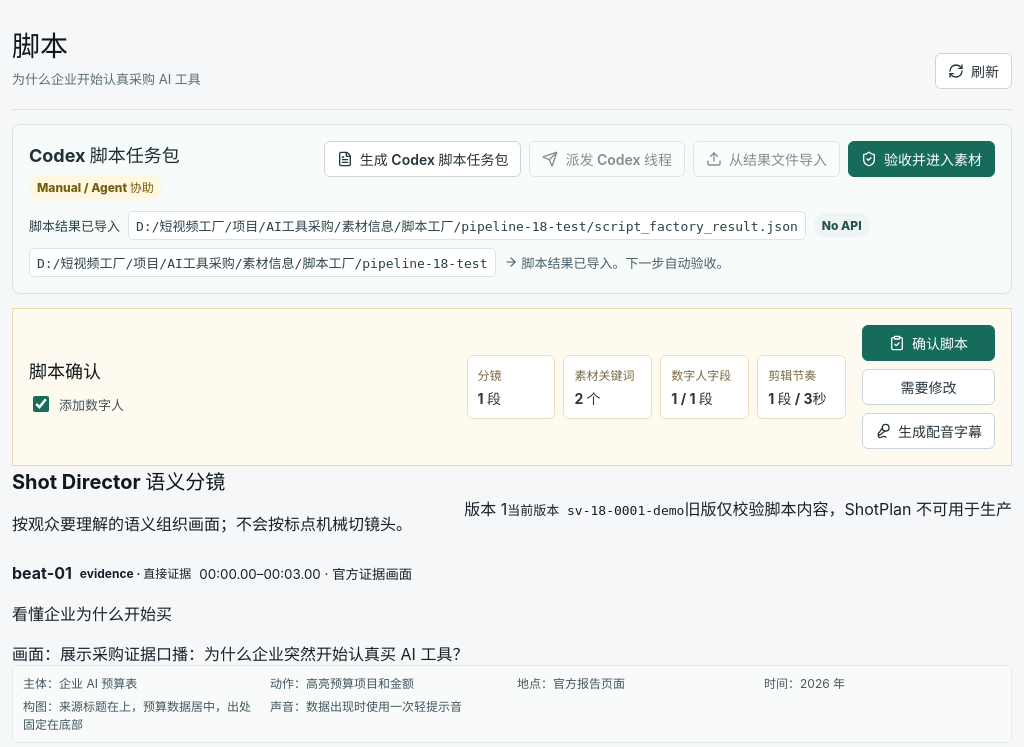
Test case: 脚本工作台页面 › 能用本地免费 TTS 生成配音和字幕
The image size is (1024, 747).
Check: the heading "脚本确认" is shown, box left=29, top=361, right=101, bottom=382
Click the button "生成配音字幕" at (928, 431), box left=862, top=413, right=995, bottom=449
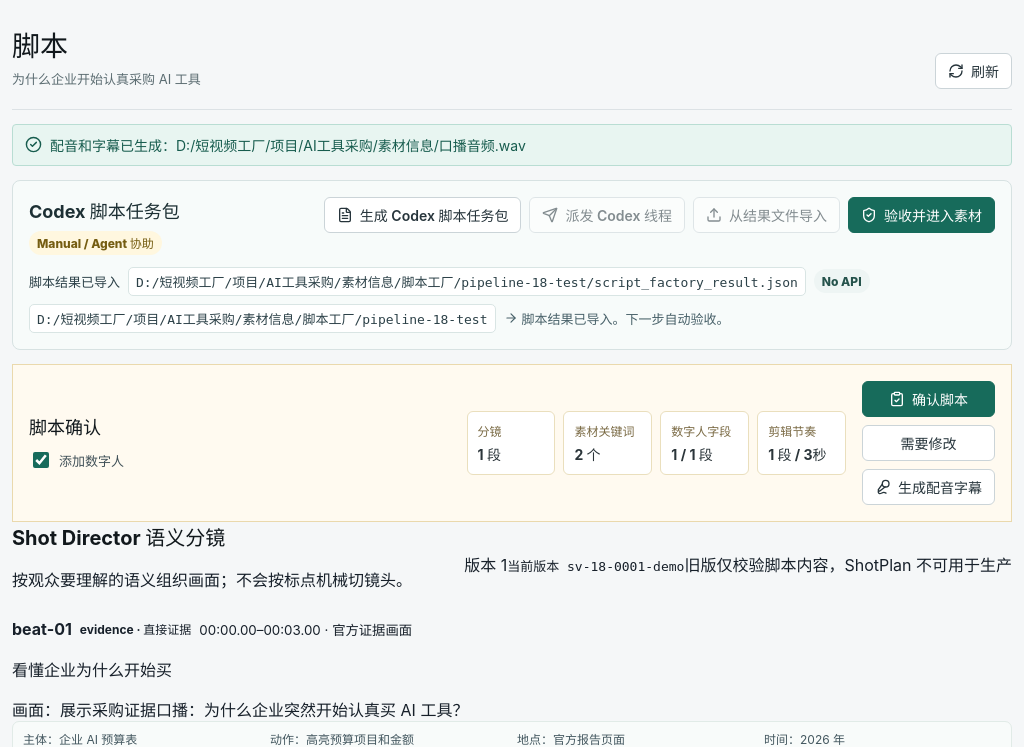
Check: the text "配音和字幕已生成：D:/短视频工厂/项目/AI工具采购/素材信息/口播音频.wav" is shown, box left=12, top=124, right=1012, bottom=166
